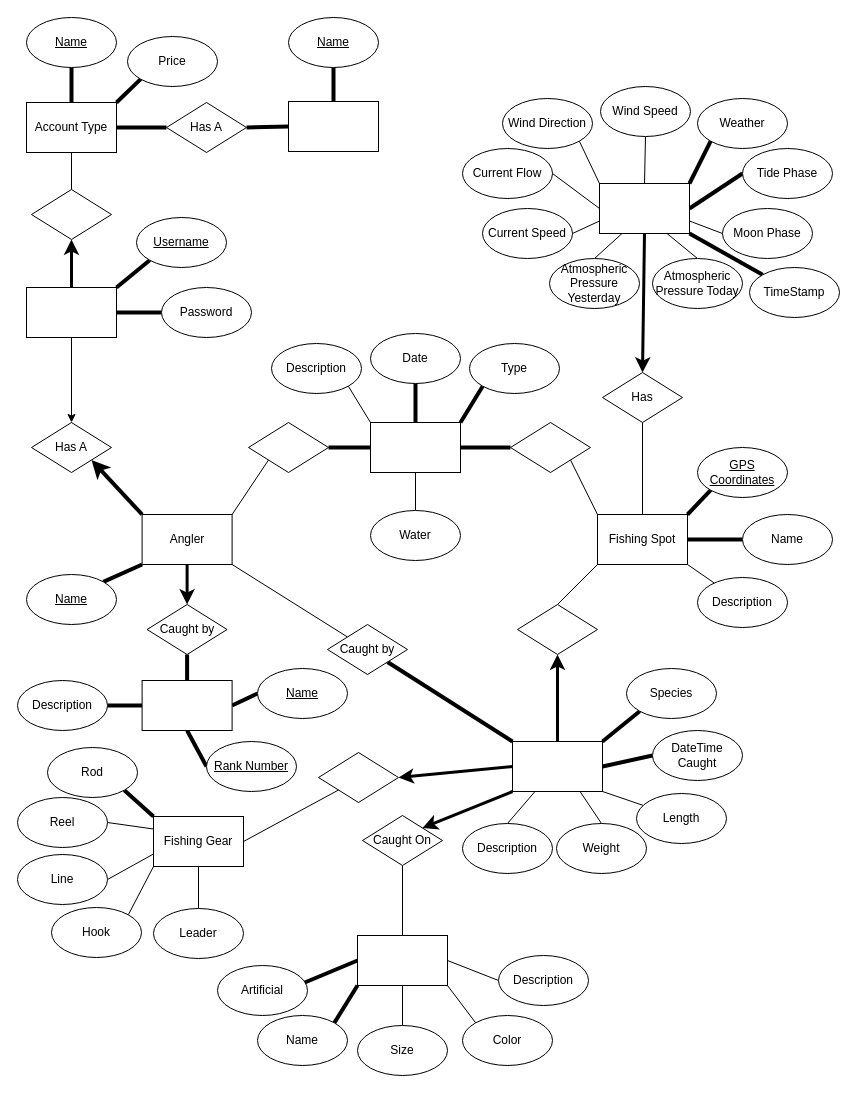
Image size: 857x1093. Some labels were removed from this diagram. Here are the shapes that lost their labels. From the top down, the box of each, then its label:
(288, 100, 378, 152): Priviledge
(30, 188, 112, 240): Has An
(598, 182, 690, 234): Fishing Conditions
(26, 286, 116, 338): User Account
(248, 422, 328, 472): Attends
(370, 422, 460, 472): Fishing Outing
(510, 422, 590, 472): Fished
(516, 604, 598, 654): Caught At
(141, 680, 232, 730): Angler Rank
(318, 752, 398, 802): Caught With
(512, 740, 602, 792): Fish
(356, 934, 448, 986): Bait
